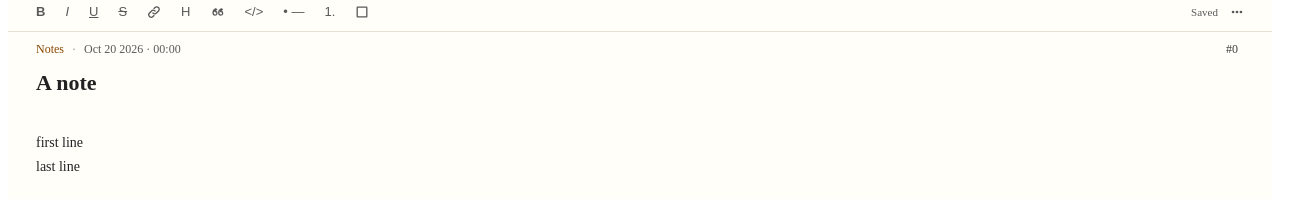
Scenario: #-autocomplete in the body › clicking a row picks it
(page scrolled)
Step 1. Clear the field with class "editor-body" → (60, 142), box x1=36 y1=135 x2=83 y2=174
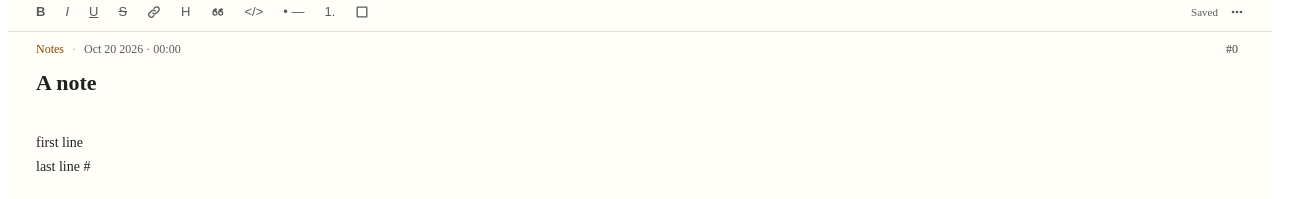
Step 2. Clear the field with class "editor-body" → (60, 142), box x1=36 y1=135 x2=90 y2=174
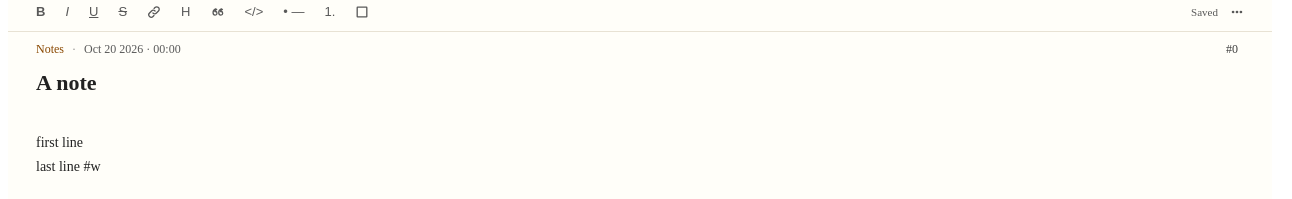
Step 3. Clear the field with class "editor-body" → (60, 142), box x1=36 y1=135 x2=100 y2=174
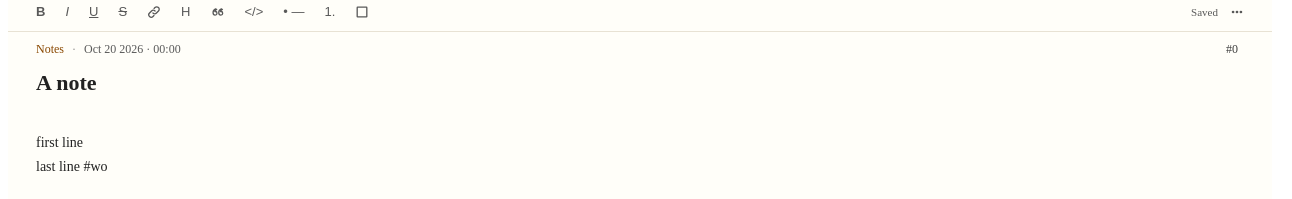
Step 4. Clear the field with class "editor-body" → (60, 142), box x1=36 y1=135 x2=108 y2=174
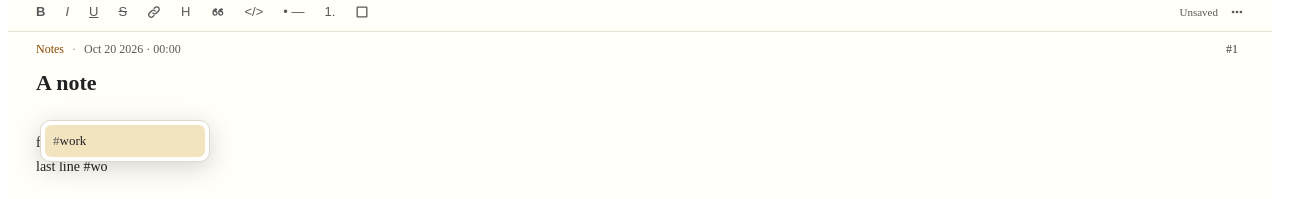
Step 5. Click the option "# work" → click(125, 141), box x1=45 y1=125 x2=205 y2=156
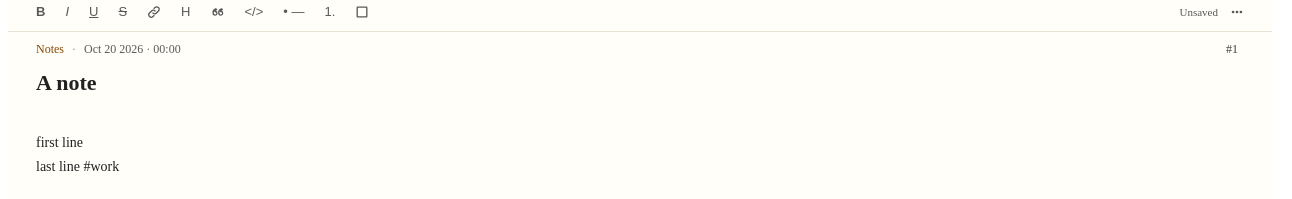
Expected: the list with test id "hashtag-picker" is gone
